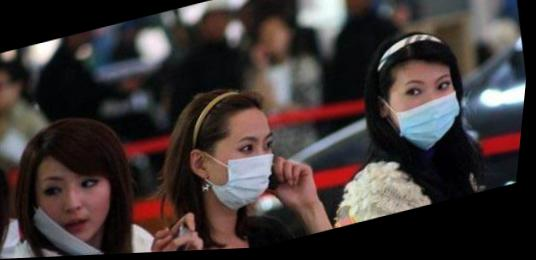OK: (377, 66, 474, 159), (199, 127, 290, 215)
WRONG: (31, 163, 127, 250)
